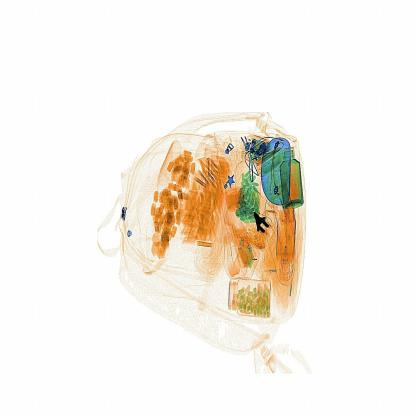gun: (245, 200, 272, 244)
